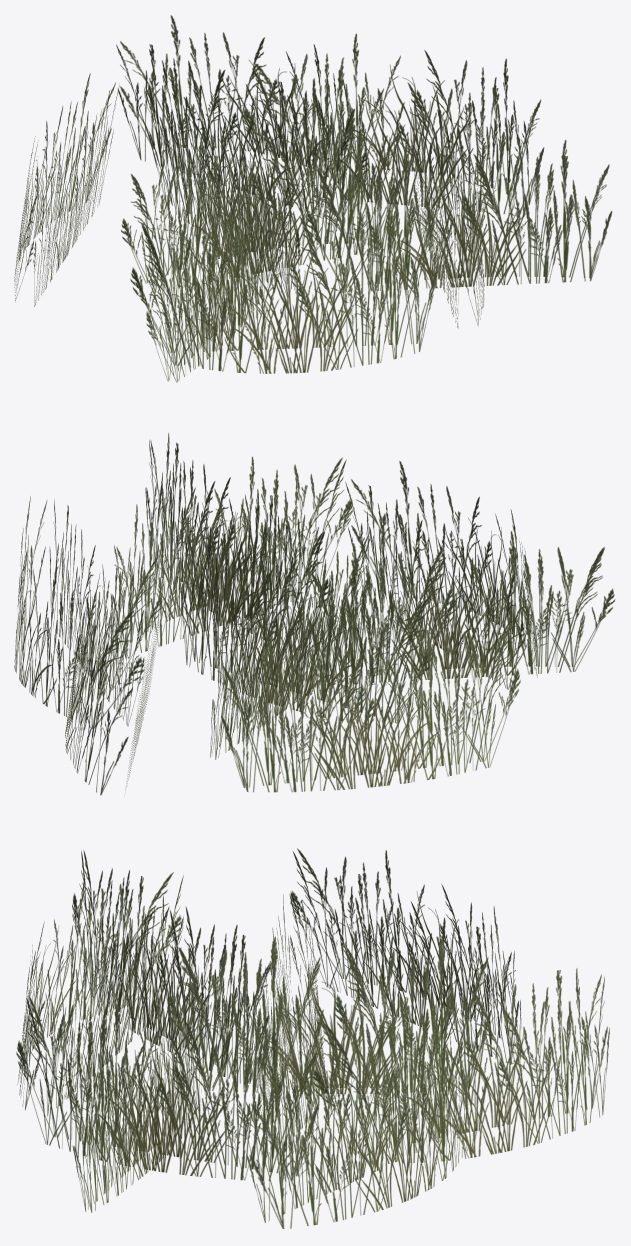
The model's file is grass02.glb.
3 renders of one model, top to bottom at view 1: azimuth 30°, elevation 25°; view 2: azimuth 150°, elevation 25°; view 3: azimuth 270°, elevation 25°, orthographic. The views are drawn at different scales.
Visible parts, largest first — view 1: Grass02_LOD0; view 2: Grass02_LOD0; view 3: Grass02_LOD0.
Boxes of the visible parts, x1=… form: Grass02_LOD0: x1=14, y1=15, x2=612, y2=382; Grass02_LOD0: x1=14, y1=433, x2=615, y2=795; Grass02_LOD0: x1=16, y1=848, x2=609, y2=1228.
Size of the model in its own units: 2.87 by 0.8171 by 2.84.
Materials: 1 (1 with a texture image).
